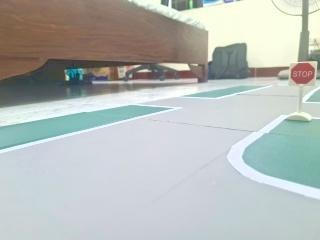stop: (288, 54, 315, 89)
